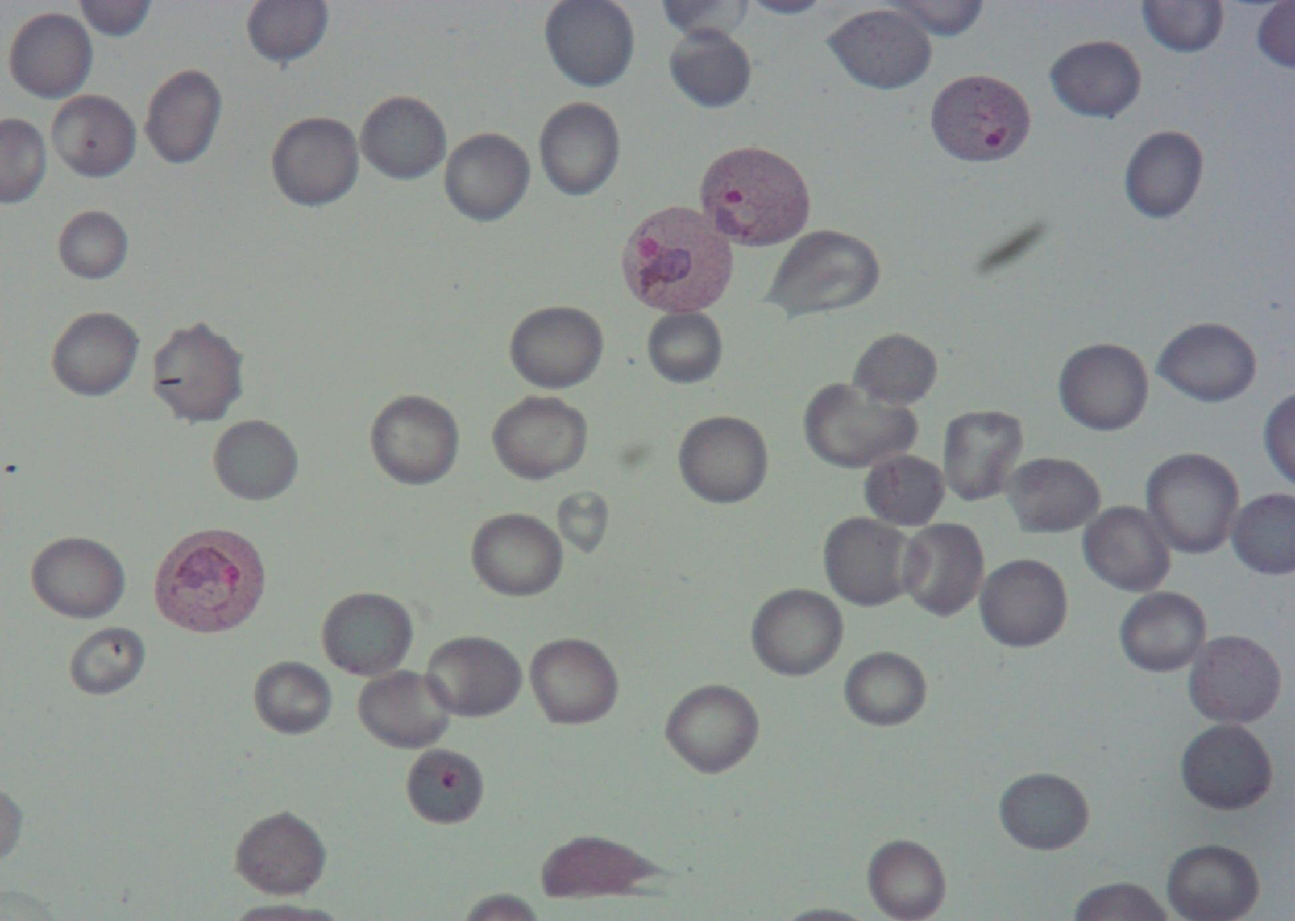Infected: (618, 204, 735, 316), (151, 526, 264, 635), (695, 147, 810, 249), (928, 72, 1032, 166)
Uninfected: (1140, 452, 1242, 557), (803, 382, 920, 471), (827, 2, 935, 97), (769, 228, 881, 316), (662, 680, 763, 777), (148, 325, 242, 427), (822, 520, 929, 609), (747, 587, 847, 680), (366, 392, 462, 488), (488, 394, 590, 483), (1157, 320, 1260, 408), (268, 114, 363, 209), (440, 129, 534, 225), (524, 635, 620, 729), (1059, 343, 1156, 436), (466, 510, 565, 601), (505, 304, 606, 393), (675, 413, 770, 507), (936, 404, 1029, 500), (1178, 721, 1274, 814), (27, 534, 127, 623), (1081, 501, 1174, 595), (233, 812, 332, 900), (1186, 635, 1280, 727), (48, 309, 142, 400), (356, 667, 454, 753), (899, 521, 986, 616), (1121, 127, 1207, 223), (1047, 37, 1144, 122), (995, 770, 1092, 854), (141, 69, 223, 168), (535, 103, 622, 196), (544, 833, 656, 905), (421, 634, 519, 714), (980, 557, 1067, 647), (48, 97, 141, 181), (9, 12, 94, 103), (360, 93, 449, 178), (324, 593, 414, 677), (839, 648, 930, 731), (666, 24, 753, 110), (1005, 456, 1101, 533), (863, 837, 948, 920), (1120, 591, 1206, 673), (207, 417, 294, 497), (1165, 847, 1260, 920), (250, 658, 335, 739), (853, 331, 941, 408), (404, 745, 487, 826), (69, 621, 149, 703), (645, 306, 725, 387), (863, 453, 944, 532), (51, 207, 131, 286), (552, 489, 610, 554)
